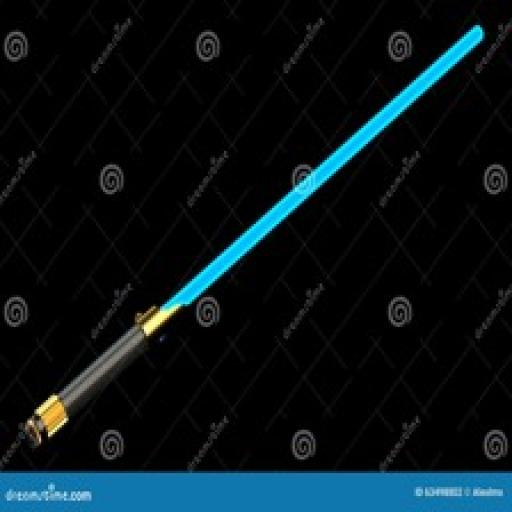lightsaber: (23, 22, 487, 444)
